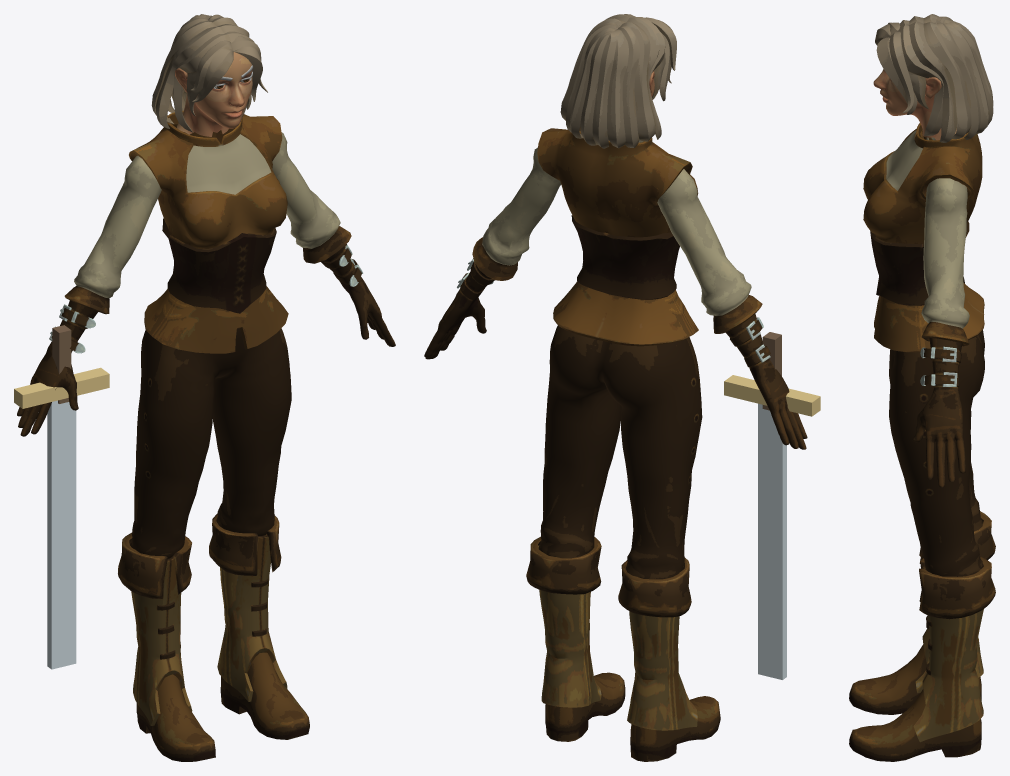
File: peasant-sword.glb
3 views of the same model, side by side, from view 1: azimuth 30°, elevation 25°; view 2: azimuth 150°, elevation 25°; view 3: azimuth 270°, elevation 25° (orthographic).
Visible parts, largest first — view 1: Female_Peasant_Body, Female_Peasant_Legs, Female_Peasant_Feet, Female_Peasant_Arms, weapon_blade, Hair_Long, Superhero_Female, weapon_guard, weapon_grip; view 2: Female_Peasant_Legs, Female_Peasant_Body, Female_Peasant_Feet, Female_Peasant_Arms, Hair_Long, weapon_blade, weapon_guard; view 3: Female_Peasant_Feet, Female_Peasant_Body, Female_Peasant_Legs, Female_Peasant_Arms, Hair_Long, Superhero_Female.
Boxes of the visible parts, <box> form: Female_Peasant_Body: <box>129,110,288,353</box>; Female_Peasant_Legs: <box>130,328,291,558</box>; Female_Peasant_Feet: <box>118,513,309,761</box>; Female_Peasant_Arms: <box>17,132,395,436</box>; weapon_blade: <box>47,400,76,669</box>; Hair_Long: <box>151,14,267,132</box>; Superhero_Female: <box>175,52,252,136</box>; weapon_guard: <box>14,367,109,408</box>; weapon_grip: <box>52,325,71,403</box>; Female_Peasant_Legs: <box>538,325,702,579</box>; Female_Peasant_Body: <box>537,127,698,346</box>; Female_Peasant_Feet: <box>526,536,720,761</box>; Female_Peasant_Arms: <box>424,147,807,449</box>; Hair_Long: <box>560,14,676,148</box>; weapon_blade: <box>758,403,786,679</box>; weapon_guard: <box>724,375,820,416</box>; Female_Peasant_Feet: <box>849,511,995,761</box>; Female_Peasant_Body: <box>863,123,984,352</box>; Female_Peasant_Legs: <box>889,330,984,576</box>; Female_Peasant_Arms: <box>912,137,969,487</box>; Hair_Long: <box>875,14,993,142</box>; Superhero_Female: <box>873,69,965,140</box>.
Bounding box in the file's own units: 1.01 × 1.78 × 0.3348.
11 materials, 8 textured.
